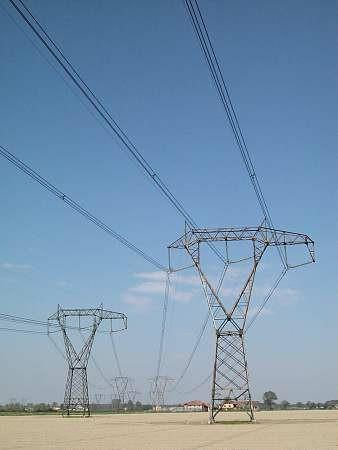power_tower: (165, 214, 322, 418), (49, 299, 127, 419)
